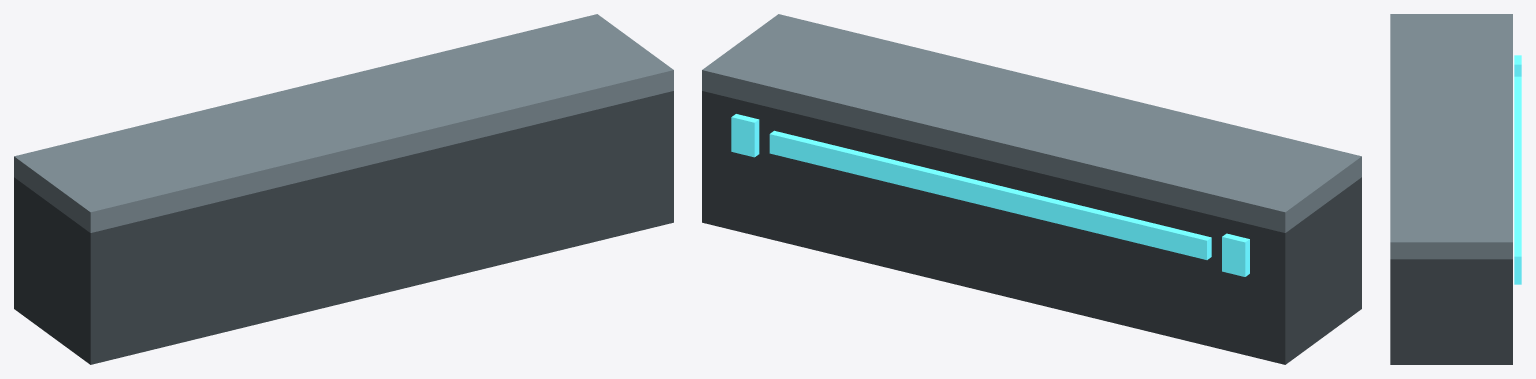
File: Identity-core_light_trim.glb
3 views of the same model, side by side, from view 1: azimuth 30°, elevation 25°; view 2: azimuth 150°, elevation 25°; view 3: azimuth 270°, elevation 25° (orthographic). The views are drawn at different scales.
Parts seen in each view (by area): view 1: TrimBase, PrecisionCap; view 2: TrimBase, PrecisionCap, LightChannel, NodeR, NodeL; view 3: PrecisionCap, TrimBase, LightChannel, NodeR, NodeL.
Boxes of the visible parts, x1,y1,x2,y2 form: TrimBase: (14,91,673,364); PrecisionCap: (14,14,673,232); TrimBase: (702,91,1361,364); PrecisionCap: (702,14,1361,232); LightChannel: (769,130,1211,259); NodeR: (731,114,759,157); NodeL: (1222,233,1249,276); PrecisionCap: (1390,14,1512,259); TrimBase: (1390,259,1512,364); LightChannel: (1514,76,1521,247); NodeR: (1514,247,1521,284); NodeL: (1514,55,1521,76).
Bounding box in the file's own units: 1.76 × 0.44 × 0.428.
